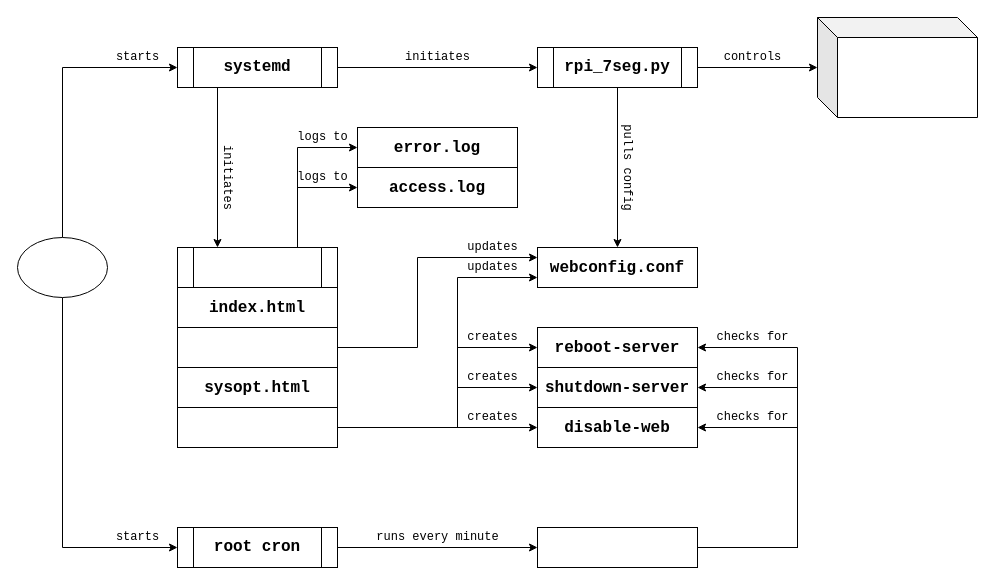
The diagram is 995 pixels wide and 585 high, and some of its shapes have lost their labels. The shapes that lost their labels are listed below. From the top down, each one's centre as x and y in pixels, then its label:
At (897,67): "7 Segment Display".
At (62,267): "boot".
At (257,267): "apache2".
At (257,347): "config.php".
At (257,427): "sysopt.php".
At (617,547): "webconfig_cron.sh".
